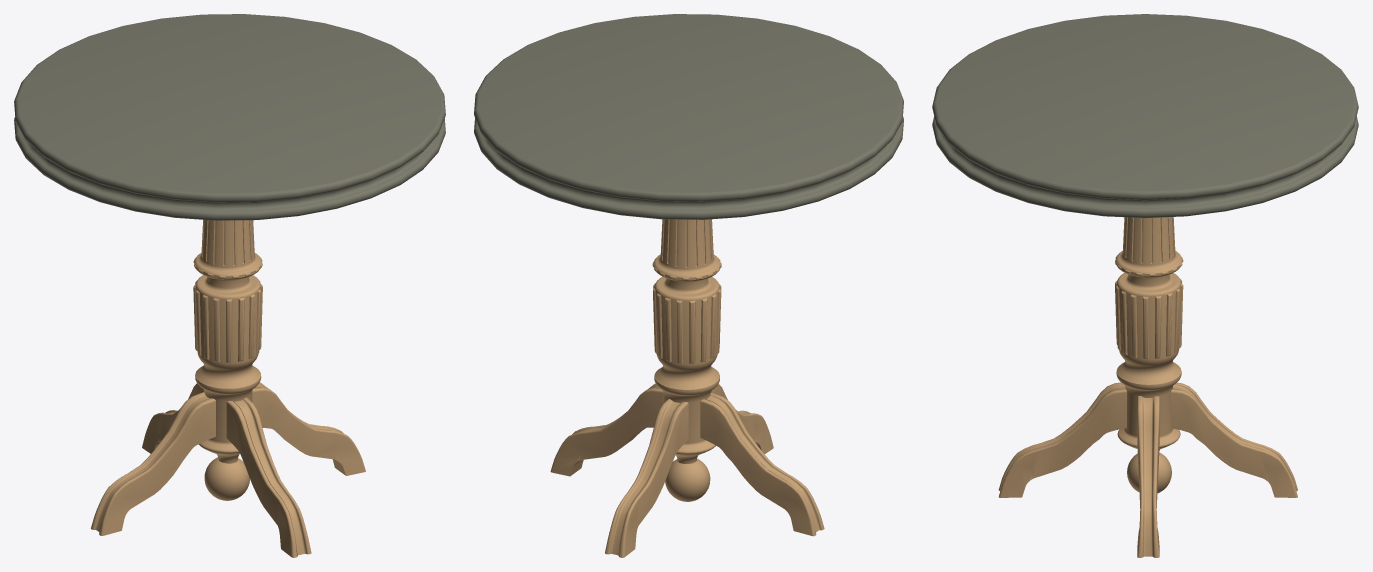
The model's file is vintage_table.glb.
The picture shows the model from 3 angles, left to right: view 1: azimuth 30°, elevation 25°; view 2: azimuth 150°, elevation 25°; view 3: azimuth 270°, elevation 25°; orthographic projection.
Parts seen in each view (by area): view 1: Cube.035_Cube.019_0; view 2: Cube.035_Cube.019_0; view 3: Cube.035_Cube.019_0.
Part boxes in pixels (<box>): Cube.035_Cube.019_0: <box>14,14,445,557</box>; Cube.035_Cube.019_0: <box>474,14,903,557</box>; Cube.035_Cube.019_0: <box>932,14,1358,557</box>.
Size of the model in its own units: 0.8254 by 0.8363 by 0.8254.
